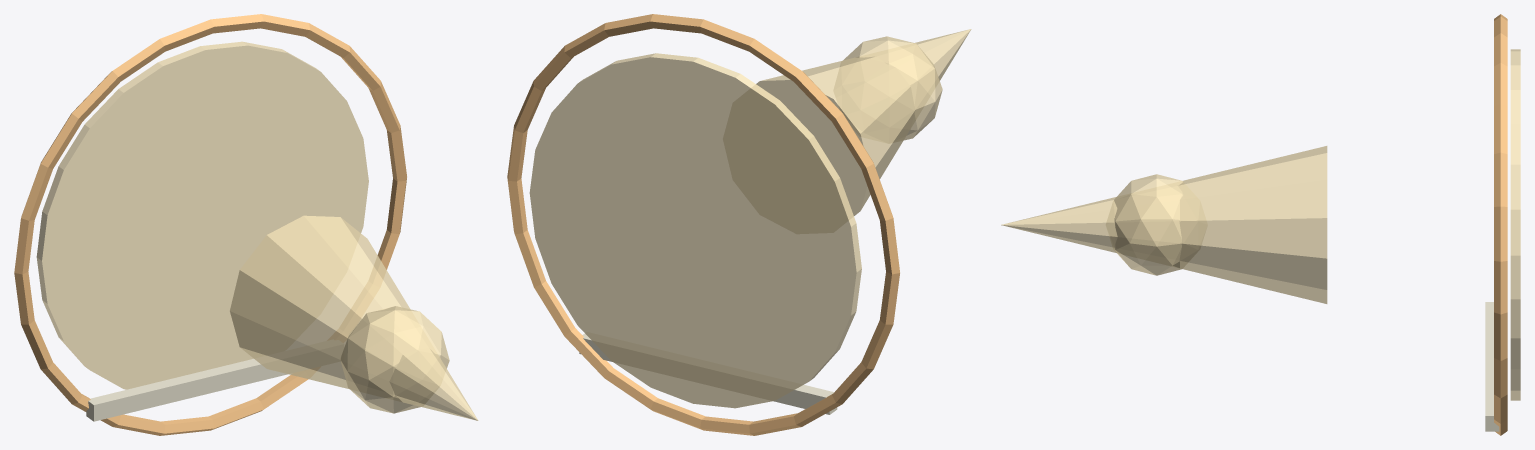
The model's file is 01_ability_vfx_module.glb.
3 views of the same model, side by side, from view 1: azimuth 30°, elevation 25°; view 2: azimuth 150°, elevation 25°; view 3: azimuth 270°, elevation 25° (orthographic). The views are drawn at different scales.
Parts seen in each view (by area): view 1: ability_ground_disc, ability_energy_cone, ability_timing_ring, ability_core, directional_flow_mark; view 2: ability_ground_disc, ability_timing_ring, ability_energy_cone, directional_flow_mark, ability_core; view 3: ability_energy_cone, ability_core, ability_timing_ring, ability_ground_disc, directional_flow_mark.
Part boxes in pixels (x1,y1,x2,y2): ability_ground_disc: (36,41,368,389); ability_energy_cone: (230,215,478,420); ability_timing_ring: (14,14,406,435); ability_core: (340,306,449,413); directional_flow_mark: (86,340,343,421); ability_ground_disc: (529,53,861,408); ability_timing_ring: (507,14,899,435); ability_energy_cone: (756,29,971,215); directional_flow_mark: (579,332,837,414); ability_core: (843,36,942,140); ability_energy_cone: (1001,146,1327,303); ability_core: (1114,174,1183,275); ability_timing_ring: (1494,14,1507,435); ability_ground_disc: (1510,49,1520,400); directional_flow_mark: (1485,302,1499,431).
Bounding box in the file's own units: 1.49 × 1.49 × 1.83.
